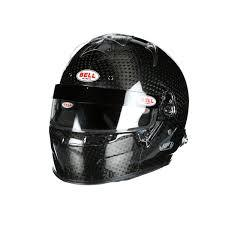helmet: (40, 44, 198, 185)
